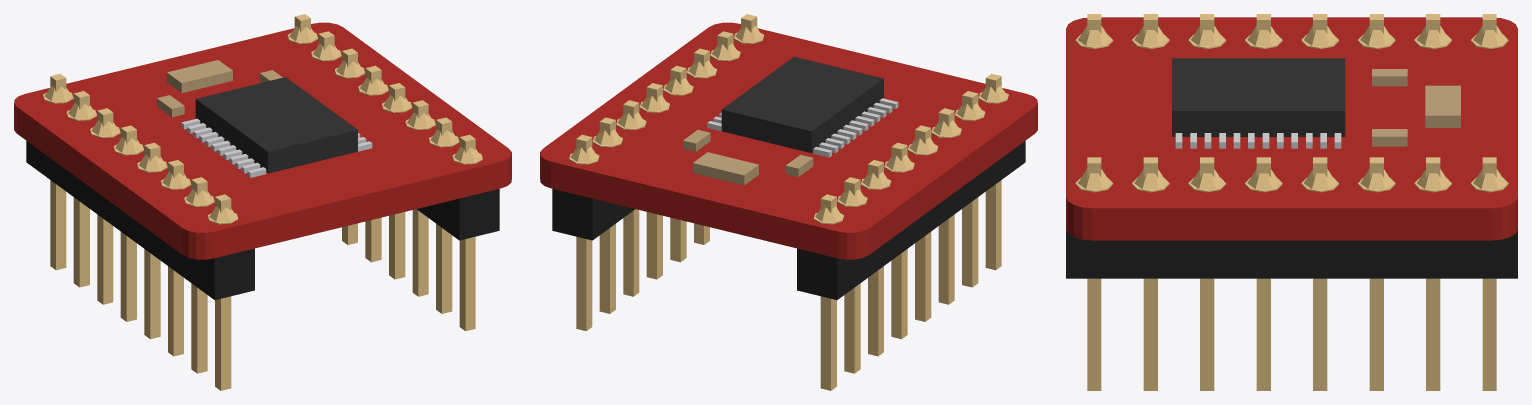
3 views of the same model, side by side, from view 1: azimuth 30°, elevation 25°; view 2: azimuth 150°, elevation 25°; view 3: azimuth 270°, elevation 25° (orthographic). The views are drawn at different scales.
Visible parts, largest first — view 1: tb6612_pcb, tb6612_chip, tb6612, tb6612_header_l_spacer, tb6612_header_r_spacer, tb6612_pin_vcc, tb6612_pin_ao1, tb6612_pin_ao2, tb6612_pin_bo1, tb6612_pin_vm, tb6612_pin_pwmb, tb6612_pin_bin2 (+7 smaller); view 2: tb6612_pcb, tb6612_chip, tb6612, tb6612_header_l_spacer, tb6612_header_r_spacer, tb6612_pin_pwma, tb6612_pin_vm, tb6612_pin_bo1, tb6612_pin_ao2, tb6612_pin_ao1, tb6612_pin_vcc, tb6612_pin_ain2 (+7 smaller); view 3: tb6612_pcb, tb6612_header_r_spacer, tb6612_chip, tb6612, tb6612_pin_pwma, tb6612_pin_ain1, tb6612_pin_bin2, tb6612_pin_bin1, tb6612_pin_stby, tb6612_pin_ain2, tb6612_pin_pwmb, tb6612_chip_legs (+6 smaller).
Part boxes in pixels (bbox=[...]): tb6612_pcb: bbox=[14, 22, 511, 259]; tb6612_chip: bbox=[195, 77, 357, 173]; tb6612: bbox=[90, 60, 482, 390]; tb6612_header_l_spacer: bbox=[26, 141, 254, 299]; tb6612_header_r_spacer: bbox=[416, 189, 499, 240]; tb6612_pin_vcc: bbox=[66, 91, 96, 287]; tb6612_pin_ao1: bbox=[113, 125, 143, 321]; tb6612_pin_ao2: bbox=[137, 142, 167, 339]; tb6612_pin_bo1: bbox=[184, 177, 214, 373]; tb6612_pin_vm: bbox=[43, 73, 73, 270]; tb6612_pin_pwmb: bbox=[429, 117, 459, 313]; tb6612_pin_bin2: bbox=[405, 100, 435, 296]; tb6612_pcb: bbox=[540, 22, 1037, 259]; tb6612_chip: bbox=[721, 56, 883, 153]; tb6612: bbox=[683, 14, 1008, 356]; tb6612_header_l_spacer: bbox=[797, 141, 1025, 299]; tb6612_header_r_spacer: bbox=[552, 189, 635, 240]; tb6612_pin_pwma: bbox=[569, 134, 599, 331]; tb6612_pin_vm: bbox=[813, 194, 843, 390]; tb6612_pin_bo1: bbox=[955, 91, 985, 287]; tb6612_pin_ao2: bbox=[908, 125, 938, 321]; tb6612_pin_ao1: bbox=[884, 142, 914, 339]; tb6612_pin_vcc: bbox=[837, 177, 867, 373]; tb6612_pin_ain2: bbox=[592, 117, 622, 313]; tb6612_pcb: bbox=[1066, 17, 1517, 240]; tb6612_header_r_spacer: bbox=[1066, 230, 1517, 278]; tb6612_chip: bbox=[1172, 58, 1345, 136]; tb6612: bbox=[1075, 14, 1460, 390]; tb6612_pin_pwma: bbox=[1470, 157, 1508, 390]; tb6612_pin_ain1: bbox=[1357, 157, 1395, 390]; tb6612_pin_bin2: bbox=[1188, 157, 1226, 390]; tb6612_pin_bin1: bbox=[1245, 157, 1282, 390]; tb6612_pin_stby: bbox=[1301, 157, 1338, 390]; tb6612_pin_ain2: bbox=[1414, 157, 1451, 390]; tb6612_pin_pwmb: bbox=[1132, 157, 1169, 390]; tb6612_chip_legs: bbox=[1175, 133, 1341, 148].
Size of the model in its own units: 0.0203 by 0.0115 by 0.0203.
